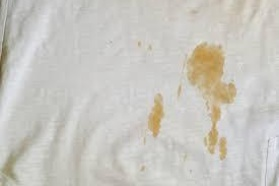coffee: (188, 42, 228, 85), (201, 84, 238, 110), (145, 95, 164, 138), (207, 109, 220, 156), (218, 138, 229, 163)
